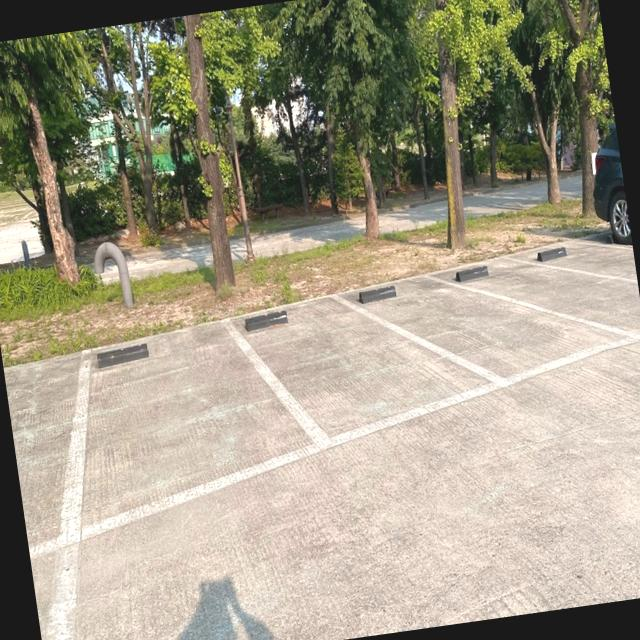free: (49, 310, 298, 534), (252, 268, 498, 451), (367, 252, 640, 410), (446, 240, 640, 363), (2, 350, 98, 564)
